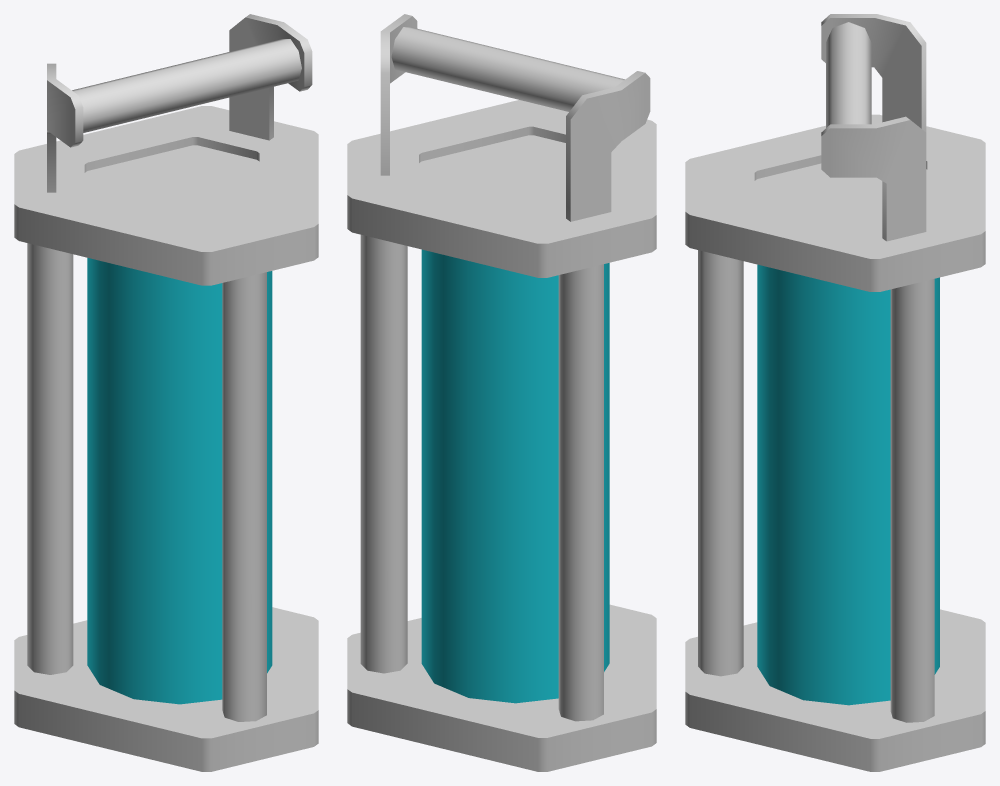
3 renders of one model, left to right at view 1: azimuth 30°, elevation 25°; view 2: azimuth 150°, elevation 25°; view 3: azimuth 270°, elevation 25°, orthographic. The views are drawn at different scales.
Parts seen in each view (by area): view 1: polySurface2, polySurface1; view 2: polySurface2, polySurface1; view 3: polySurface2, polySurface1.
Part boxes in pixels (x1=…): polySurface2: x1=14, y1=14, x2=318, y2=771; polySurface1: x1=87, y1=258, x2=272, y2=704; polySurface2: x1=347, y1=14, x2=656, y2=771; polySurface1: x1=421, y1=249, x2=609, y2=703; polySurface2: x1=685, y1=14, x2=985, y2=771; polySurface1: x1=757, y1=264, x2=939, y2=705.
Bounding box in the file's own units: 18.7 × 38 × 16.45.
